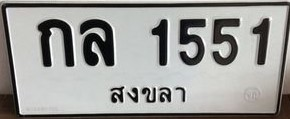txt01: (36, 18, 77, 68)
txt31: (78, 17, 117, 68)
